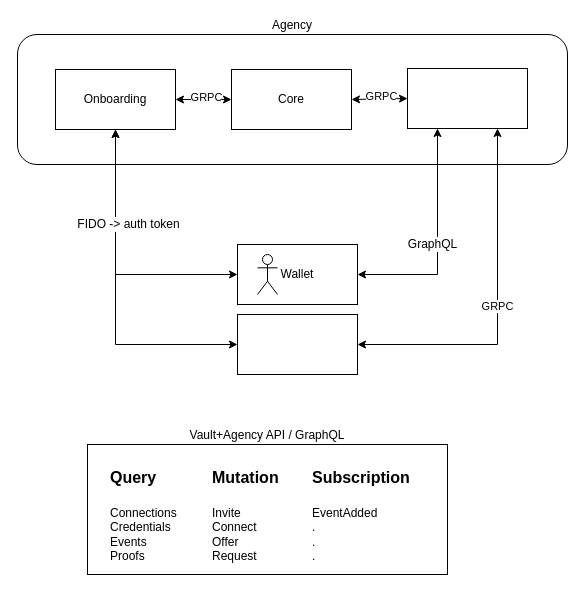
The diagram is 585 pixels wide and 592 high, and some of its shapes have lost their labels. Each missing label, with the centre of its shape:
Service: the point at 297,344
Vault: the point at 467,98
